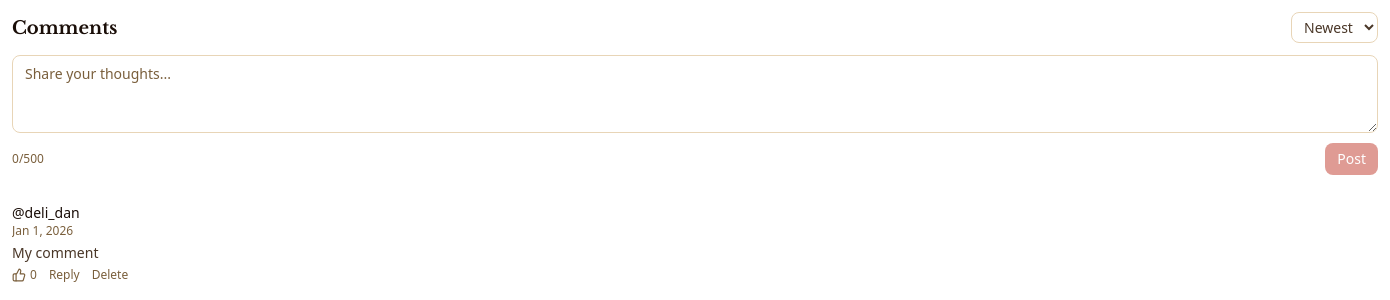
it: CommentSection › removes a comment from the list after deleting it
The image size is (1390, 300).
Expected: the text "My comment" is shown, x1=12 y1=243 x2=98 y2=262
Click the button "Delete" at (110, 275), box x1=92 y1=267 x2=128 y2=283
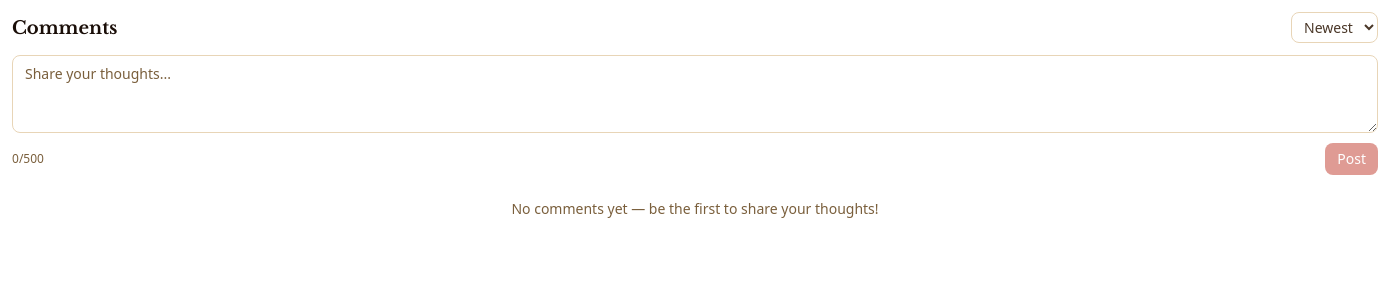
Expected: the text "My comment" is gone
